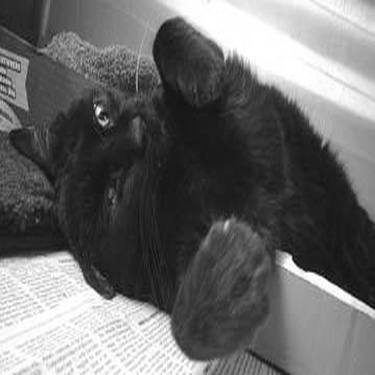cat: (7, 14, 373, 360)
